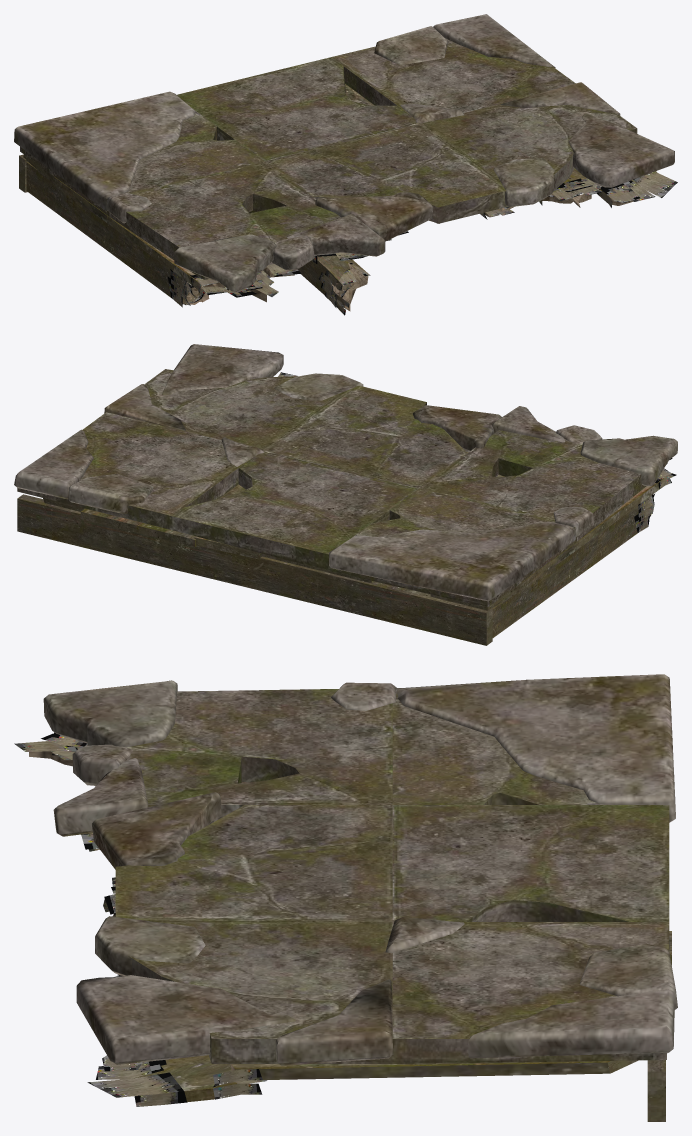
File: jungle_ruins_floor_300x200_a.glb
The picture shows the model from 3 angles, top to bottom: view 1: azimuth 30°, elevation 25°; view 2: azimuth 150°, elevation 25°; view 3: azimuth 270°, elevation 25°; orthographic projection. The views are drawn at different scales.
Visible parts, largest first — view 1: jungle_ruins_floor_300x200_a_LOD0; view 2: jungle_ruins_floor_300x200_a_LOD0; view 3: jungle_ruins_floor_300x200_a_LOD0.
Boxes of the visible parts, bbox=[...] form: jungle_ruins_floor_300x200_a_LOD0: bbox=[14, 14, 677, 315]; jungle_ruins_floor_300x200_a_LOD0: bbox=[14, 344, 677, 645]; jungle_ruins_floor_300x200_a_LOD0: bbox=[14, 674, 677, 1121].
Size of the model in its own units: 3.1 by 0.563 by 2.4.
Materials: 5 (5 with a texture image).
